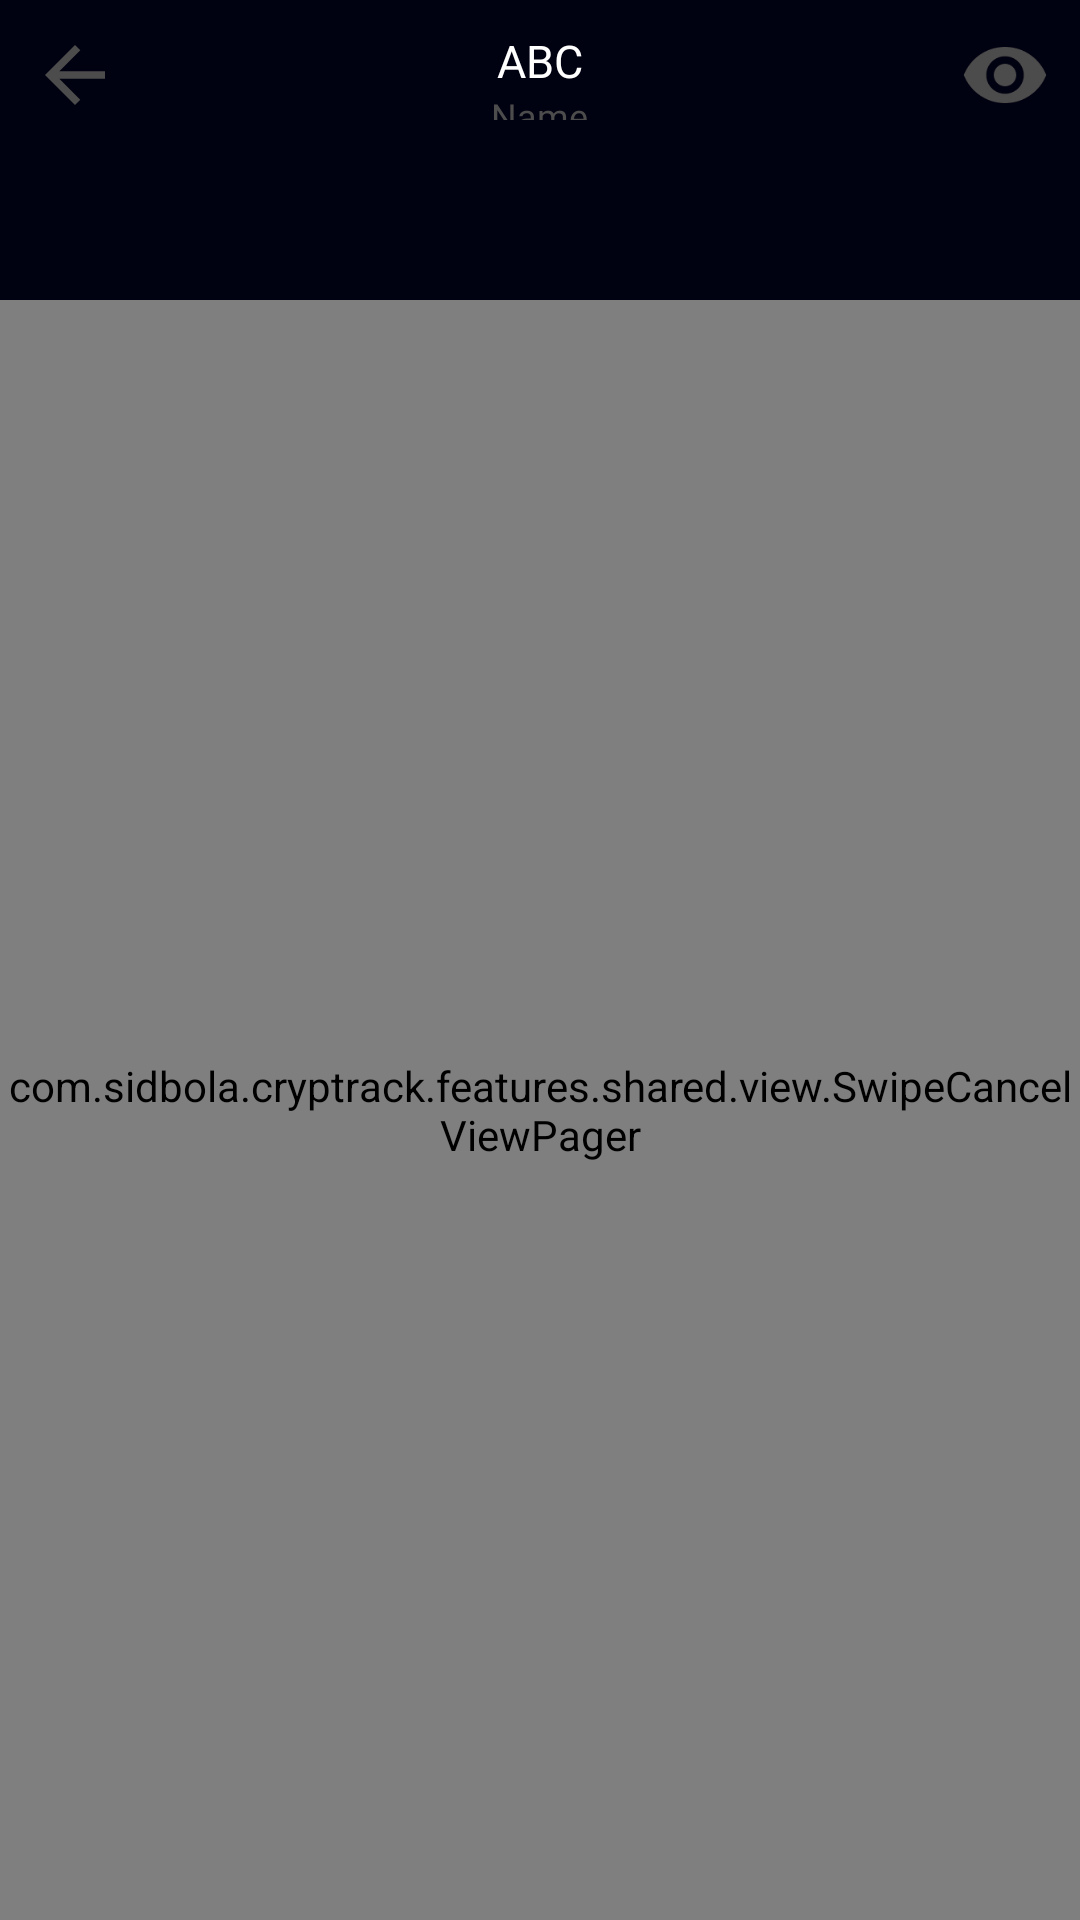

Screen size 1080x1920. Icon name, then its center in pixels as [x,y]:
navigate back: [75,75]
watchlist: [1005,75]
